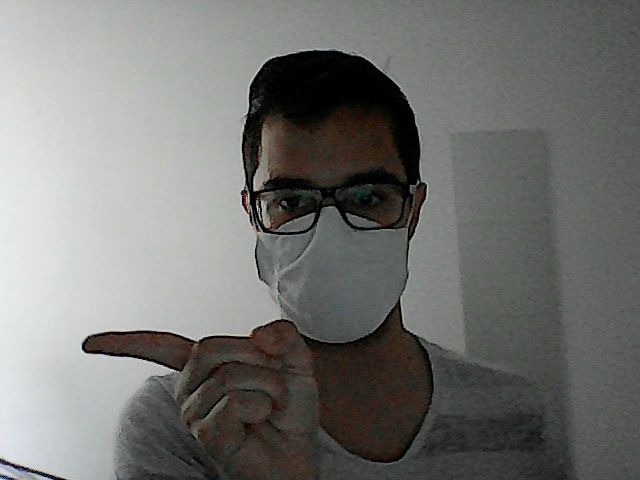right: (72, 306, 335, 476)
